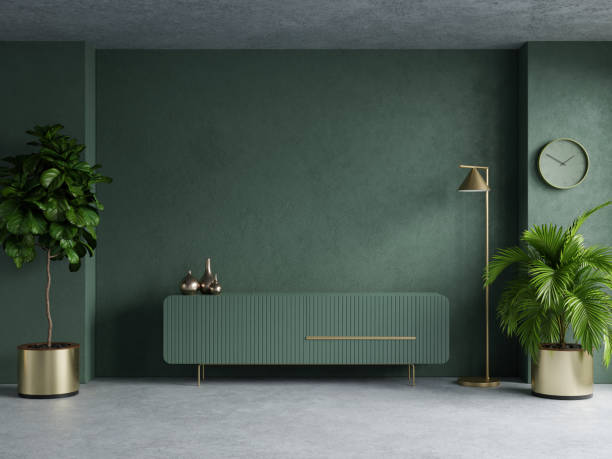floor lamp: (454, 157, 503, 392)
large plant: (0, 120, 113, 400), (484, 207, 612, 400)
